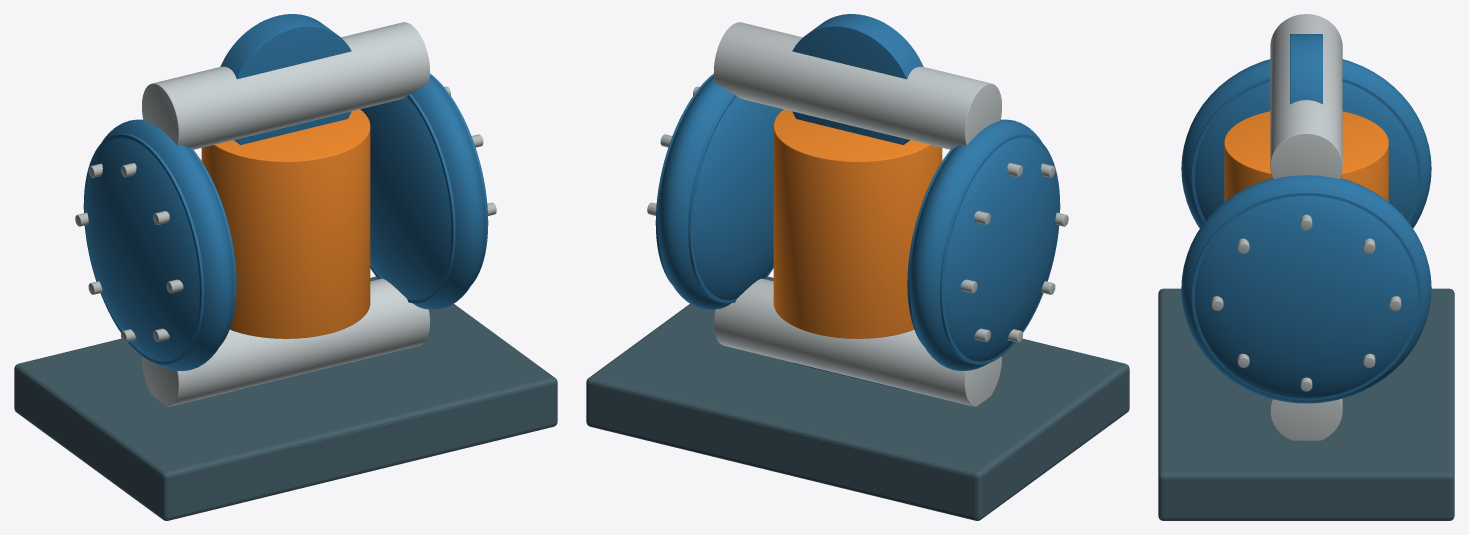
Rendered from air_operated_double_diaphragm_pump.glb.
3 renders of one model, left to right at view 1: azimuth 30°, elevation 25°; view 2: azimuth 150°, elevation 25°; view 3: azimuth 270°, elevation 25°, orthographic. The views are drawn at different scales.
Parts seen in each view (by area): view 1: BASE, AIR_CENTER, DIAPHRAGM_-0.43, DIAPHRAGM_0.43, OUTLET_MANIFOLD, INLET_MANIFOLD, OUTLET_FLANGE, COVER_-0.43, COVER_0.43; view 2: BASE, AIR_CENTER, DIAPHRAGM_-0.43, DIAPHRAGM_0.43, OUTLET_MANIFOLD, INLET_MANIFOLD, OUTLET_FLANGE, COVER_-0.43, COVER_0.43; view 3: BASE, DIAPHRAGM_0.43, DIAPHRAGM_-0.43, OUTLET_MANIFOLD, AIR_CENTER, COVER_0.43, INLET_MANIFOLD, OUTLET_FLANGE, COVER_-0.43.
Boxes of the visible parts, left/top/right/bottom form: BASE: left=14, top=276, right=557, bottom=520; AIR_CENTER: left=201, top=109, right=370, bottom=338; DIAPHRAGM_-0.43: left=85, top=119, right=234, bottom=370; DIAPHRAGM_0.43: left=360, top=75, right=485, bottom=309; OUTLET_MANIFOLD: left=142, top=22, right=429, bottom=149; INLET_MANIFOLD: left=142, top=278, right=429, bottom=406; OUTLET_FLANGE: left=220, top=14, right=351, bottom=144; COVER_-0.43: left=83, top=133, right=236, bottom=364; COVER_0.43: left=370, top=73, right=488, bottom=303; BASE: left=586, top=276, right=1129, bottom=520; AIR_CENTER: left=773, top=109, right=942, bottom=338; DIAPHRAGM_-0.43: left=909, top=119, right=1058, bottom=370; DIAPHRAGM_0.43: left=658, top=75, right=783, bottom=309; OUTLET_MANIFOLD: left=714, top=22, right=1001, bottom=149; INLET_MANIFOLD: left=714, top=278, right=1001, bottom=406; OUTLET_FLANGE: left=792, top=14, right=923, bottom=144; COVER_-0.43: left=907, top=133, right=1060, bottom=364; COVER_0.43: left=655, top=73, right=773, bottom=303; BASE: left=1158, top=288, right=1454, bottom=520; DIAPHRAGM_0.43: left=1181, top=175, right=1431, bottom=403; DIAPHRAGM_-0.43: left=1181, top=59, right=1431, bottom=228; OUTLET_MANIFOLD: left=1270, top=14, right=1342, bottom=179; AIR_CENTER: left=1224, top=111, right=1388, bottom=201; COVER_0.43: left=1191, top=191, right=1421, bottom=401; INLET_MANIFOLD: left=1270, top=398, right=1342, bottom=440; OUTLET_FLANGE: left=1290, top=34, right=1322, bottom=104; COVER_-0.43: left=1191, top=77, right=1421, bottom=222.
Size of the model in its own units: 1.35 by 1.3 by 0.9.
